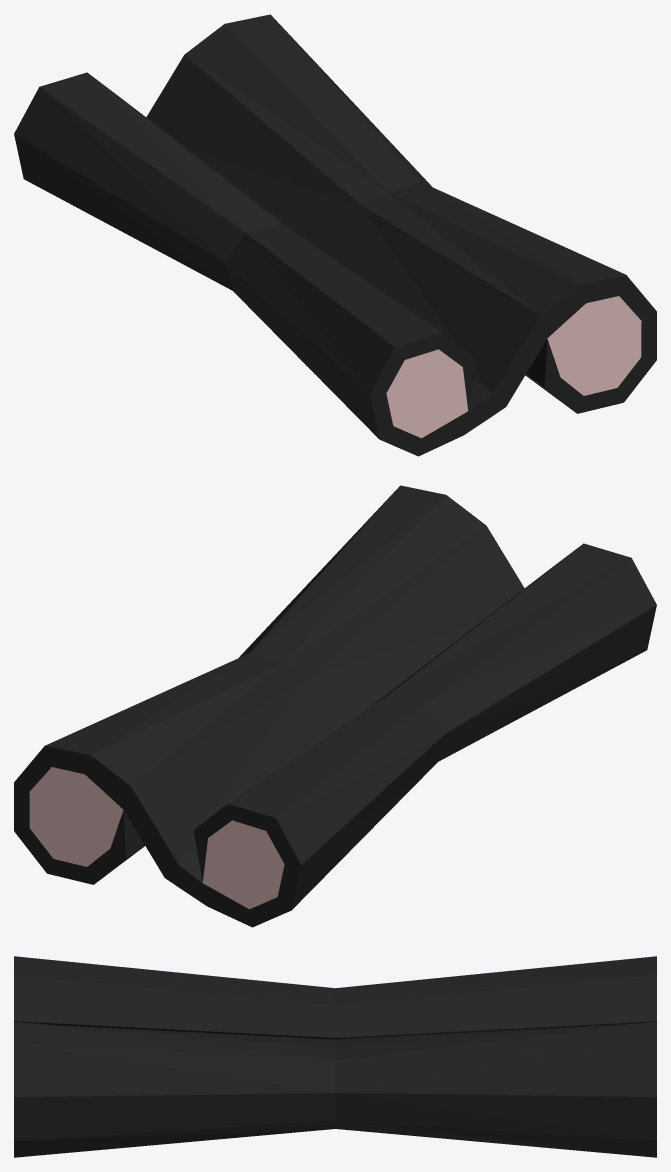
File: SM_Item_Map_01.glb
3 views of the same model, one above another, from view 1: azimuth 30°, elevation 25°; view 2: azimuth 150°, elevation 25°; view 3: azimuth 270°, elevation 25° (orthographic). The views are drawn at different scales.
Visible parts, largest first — view 1: SM_Item_Map_01_00; view 2: SM_Item_Map_01_00; view 3: SM_Item_Map_01_00.
Part boxes in pixels (x1,y1,x2,y2): SM_Item_Map_01_00: (14, 14, 656, 456); SM_Item_Map_01_00: (14, 485, 656, 927); SM_Item_Map_01_00: (14, 956, 656, 1157).
Size of the model in its own units: 0.1873 by 0.0828 by 0.4019.
Materials: 1 (1 with a texture image).
